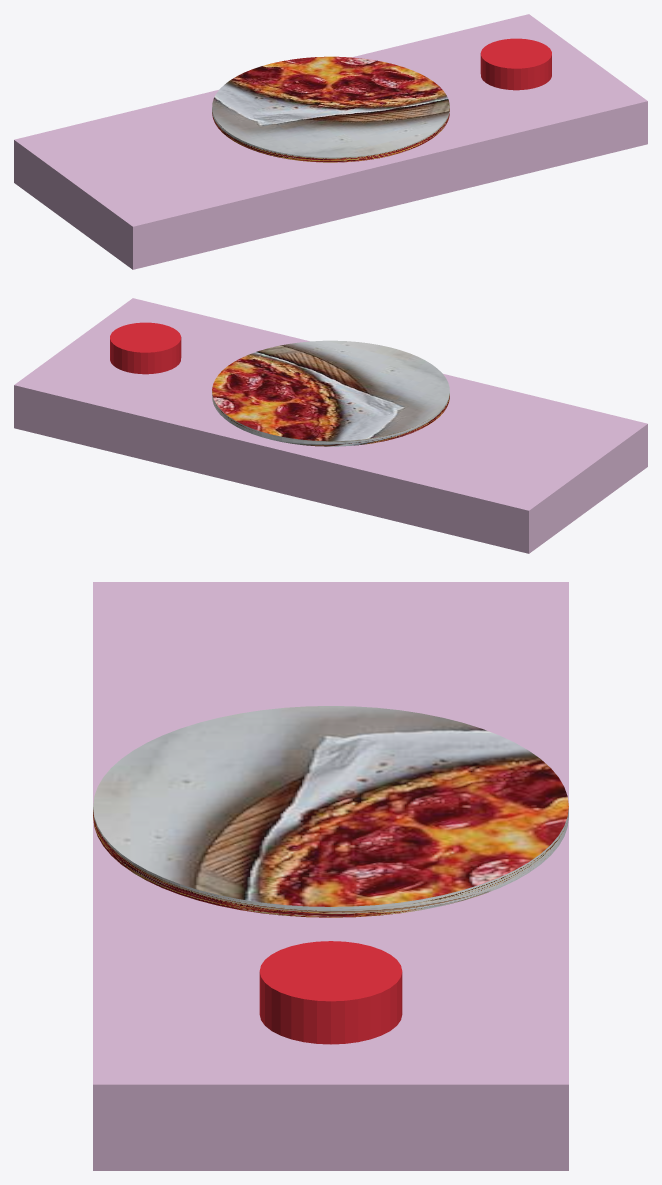
The model's file is button-test2.glb.
The picture shows the model from 3 angles, top to bottom: view 1: azimuth 30°, elevation 25°; view 2: azimuth 150°, elevation 25°; view 3: azimuth 270°, elevation 25°; orthographic projection. The views are drawn at different scales.
Visible parts, largest first — view 1: Base, Vinyl, ButtonTest; view 2: Base, Vinyl, ButtonTest; view 3: Base, Vinyl, ButtonTest.
Boxes of the visible parts, left/top/right/bottom form: Base: left=14, top=14, right=647, bottom=269; Vinyl: left=212, top=56, right=449, bottom=162; ButtonTest: left=480, top=38, right=551, bottom=90; Base: left=14, top=298, right=647, bottom=553; Vinyl: left=212, top=340, right=449, bottom=446; ButtonTest: left=110, top=322, right=181, bottom=374; Base: left=93, top=582, right=568, bottom=1170; Vinyl: left=93, top=706, right=568, bottom=917; ButtonTest: left=259, top=941, right=402, bottom=1044.
Size of the model in its own units: 5 by 0.6 by 2.
Materials: 3 (1 with a texture image).
